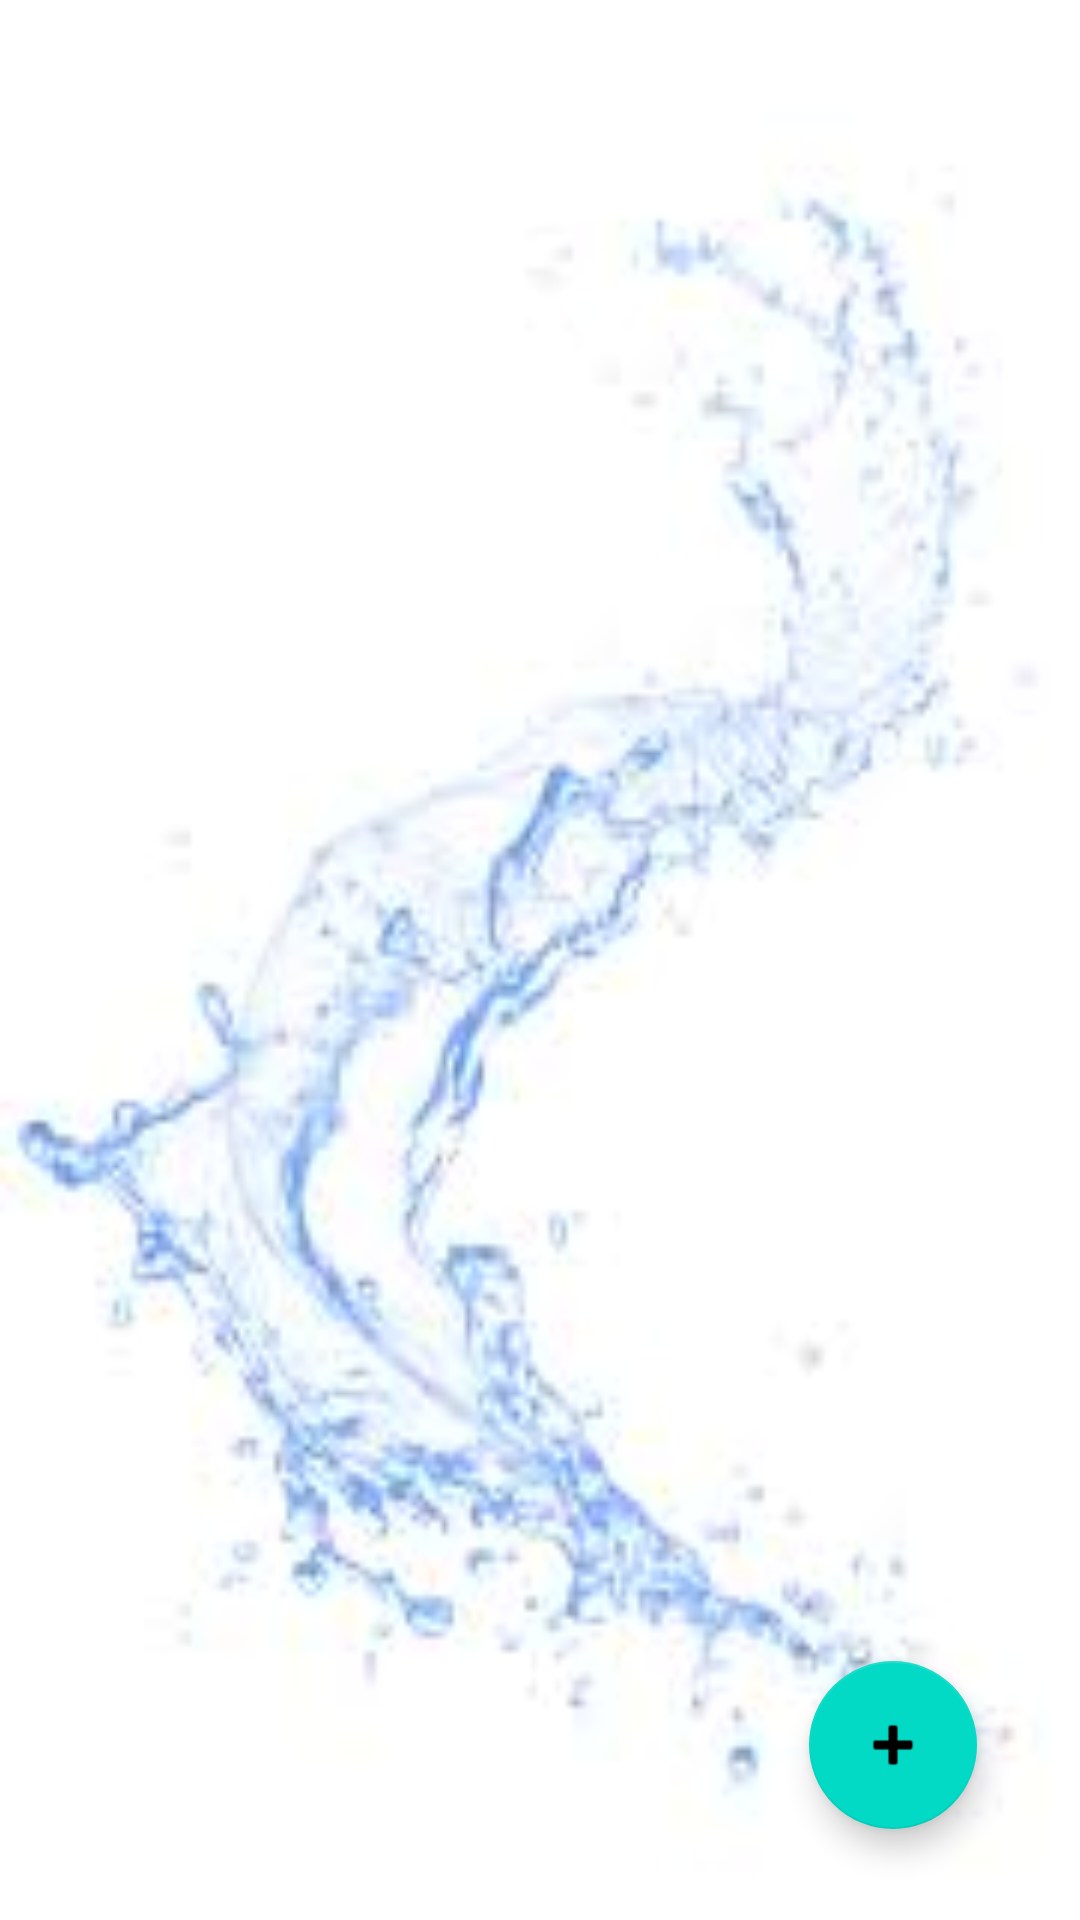

Screen size 1080 × 1920. Icon name, then its box in pixels as [left=x1, top=y1, right=x2, bottom=y2]:
add: [left=809, top=1661, right=977, bottom=1829]
